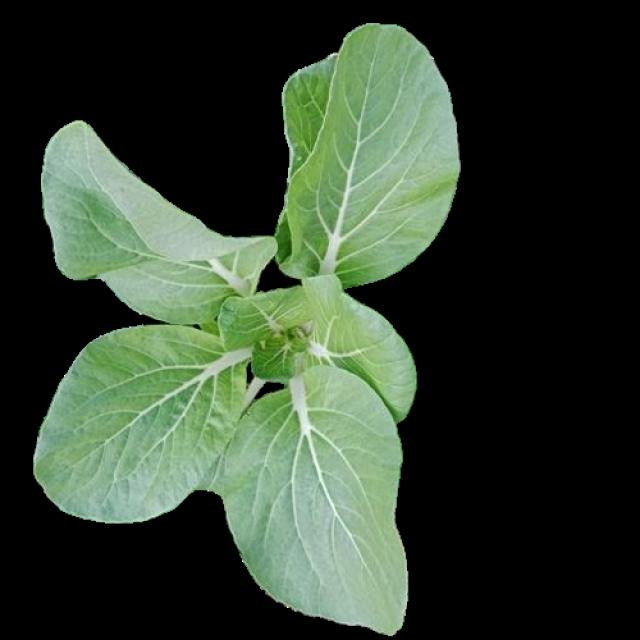healthy: (34, 19, 463, 631)
mature: (37, 21, 466, 634)
